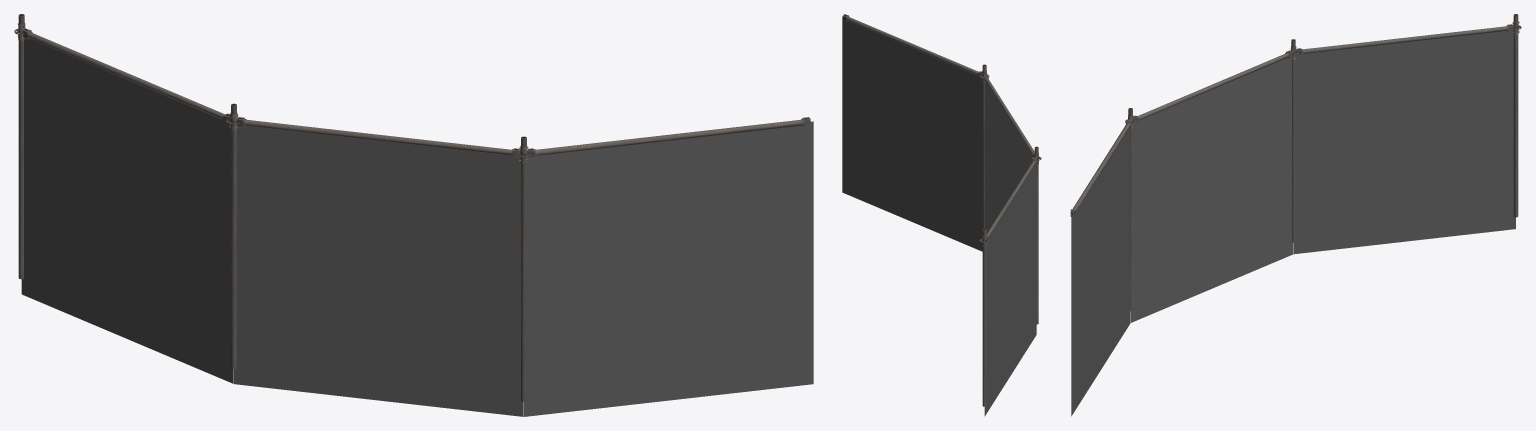
Rendered from scaffold_mid_turnl_192x192.fbx.
3 renders of one model, left to right at view 1: azimuth 30°, elevation 25°; view 2: azimuth 150°, elevation 25°; view 3: azimuth 270°, elevation 25°, orthographic. The views are drawn at different scales.
Visible parts, largest first — view 1: scaffold_mid_turnL_192x192; view 2: scaffold_mid_turnL_192x192; view 3: scaffold_mid_turnL_192x192.
Part boxes in pixels (x1,y1,x2,y2): scaffold_mid_turnL_192x192: (14,14,813,416); scaffold_mid_turnL_192x192: (842,14,1041,416); scaffold_mid_turnL_192x192: (1070,14,1521,416).
Size of the model in its own units: 389 by 204 by 389.
